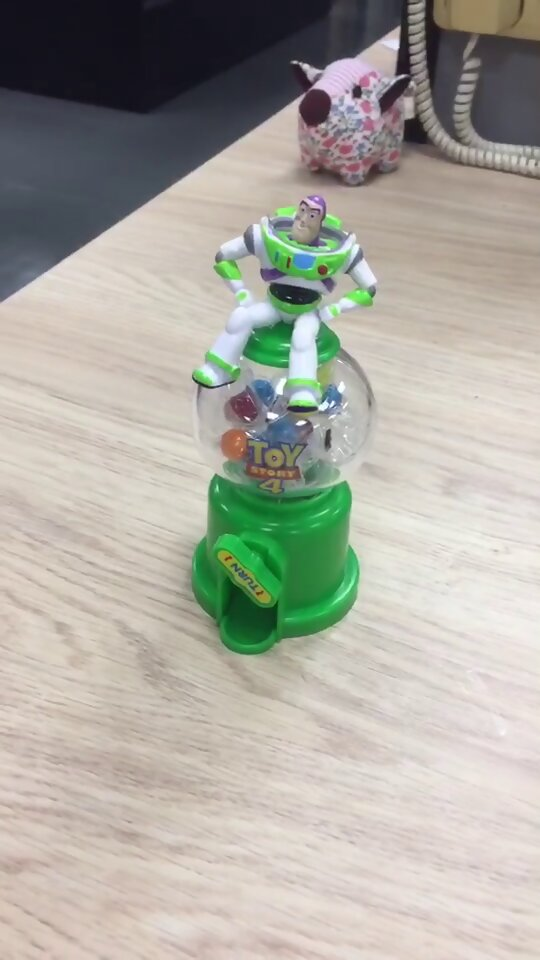buzz: (186, 193, 380, 661)
